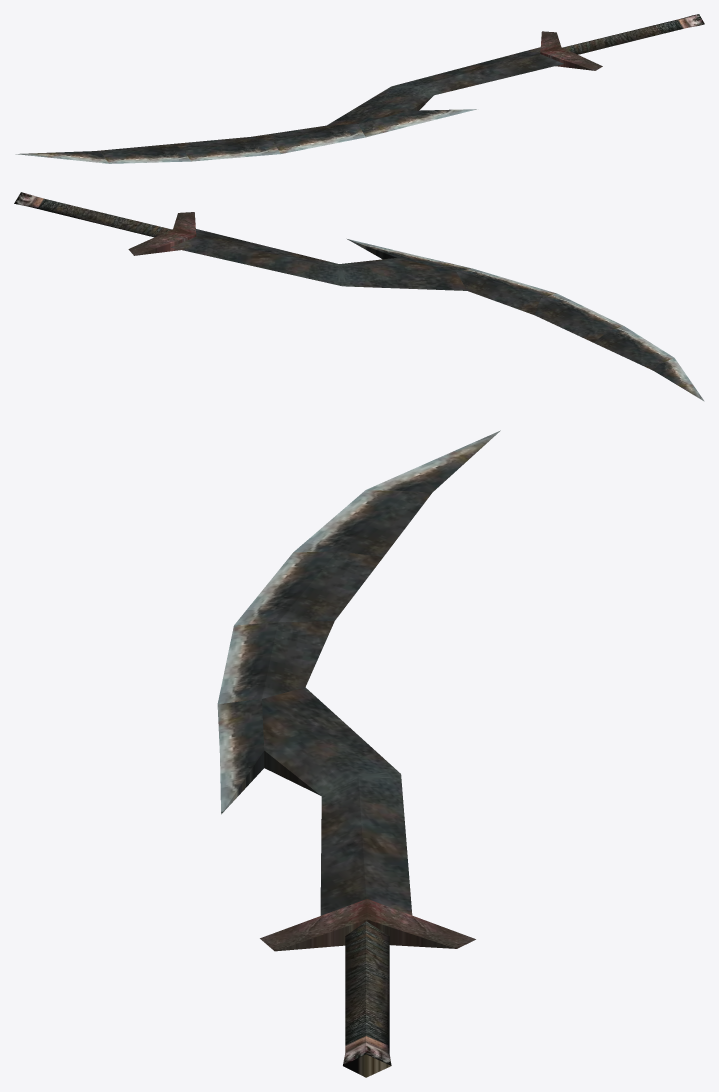
Rendered from KM_ITMW_2H_FAKEARTEFACT_DEATHSBREATH.glb.
3 renders of one model, top to bottom at view 1: azimuth 30°, elevation 25°; view 2: azimuth 150°, elevation 25°; view 3: azimuth 270°, elevation 25°, orthographic. The views are drawn at different scales.
Parts seen in each view (by area): view 1: KM_ITMW_2H_FAKEARTEFACT_DEATHSBREATH; view 2: KM_ITMW_2H_FAKEARTEFACT_DEATHSBREATH; view 3: KM_ITMW_2H_FAKEARTEFACT_DEATHSBREATH.
Part boxes in pixels (box(x1,y1,x2,y2)): KM_ITMW_2H_FAKEARTEFACT_DEATHSBREATH: box(15, 14, 704, 163); KM_ITMW_2H_FAKEARTEFACT_DEATHSBREATH: box(14, 192, 704, 401); KM_ITMW_2H_FAKEARTEFACT_DEATHSBREATH: box(217, 430, 500, 1077).
Bounding box in the file's own units: 1.35 × 0.0243 × 0.2556.
Materials: 2 (2 with a texture image).
